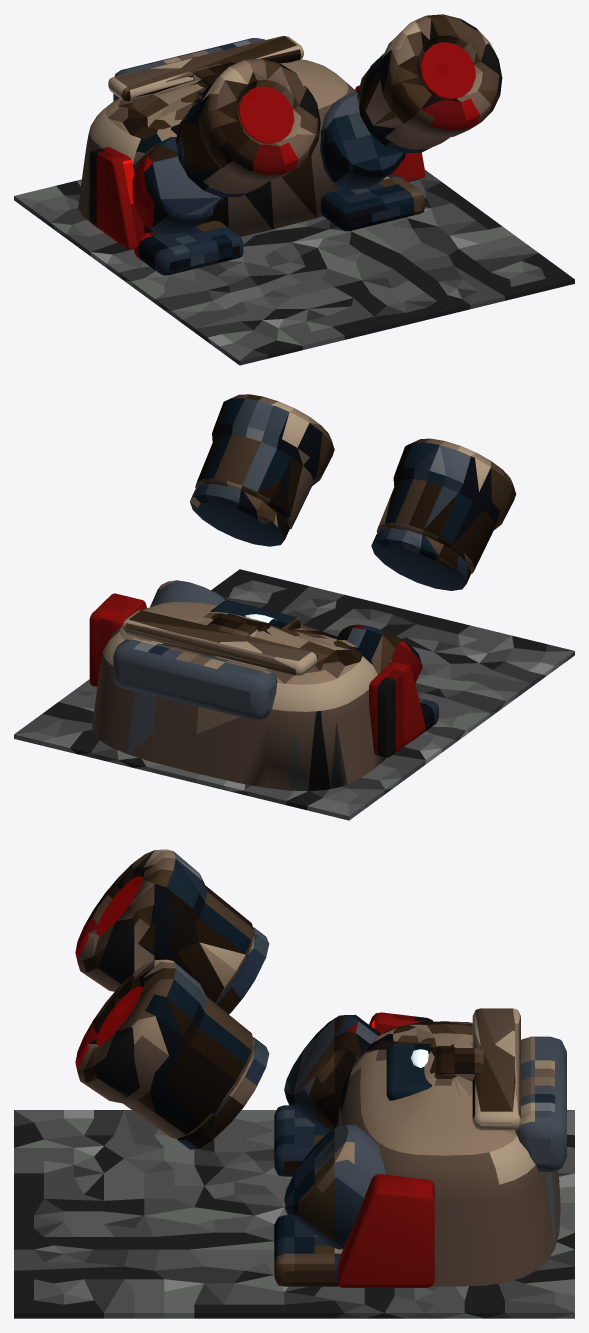
The model's file is tan_launcher_wreck.glb.
3 views of the same model, one above another, from view 1: azimuth 30°, elevation 25°; view 2: azimuth 150°, elevation 25°; view 3: azimuth 270°, elevation 25° (orthographic). The views are drawn at different scales.
Parts seen in each view (by area): view 1: tl_floor, housing, sleeve_r, sleeve_l, breech_l, breech_r, fin_l, t_bar, foot_l, foot_r, bore_l, bore_r (+5 smaller); view 2: tl_floor, housing, sleeve_l, sleeve_r, cowl, t_bar, fin_l, ring_l, ring_r, breech_l, fin_r, breech_r (+2 smaller); view 3: tl_floor, housing, sleeve_r, sleeve_l, fin_r, breech_r, breech_l, cowl, t_bar, foot_r, ring_r, foot_l (+6 smaller).
Boxes of the visible parts, left/top/right/bottom form: tl_floor: left=14, top=170, right=574, bottom=365; housing: left=78, top=59, right=356, bottom=236; sleeve_r: left=362, top=14, right=502, bottom=149; sleeve_l: left=181, top=58, right=320, bottom=194; breech_l: left=132, top=137, right=224, bottom=234; breech_r: left=320, top=92, right=405, bottom=189; fin_l: left=89, top=147, right=145, bottom=249; t_bar: left=108, top=36, right=303, bottom=101; foot_l: left=134, top=220, right=243, bottom=275; foot_r: left=321, top=174, right=424, bottom=231; bore_l: left=238, top=86, right=294, bottom=143; bore_r: left=420, top=42, right=475, bottom=99; tl_floor: left=14, top=569, right=574, bottom=820; housing: left=92, top=602, right=386, bottom=791; sleeve_l: left=376, top=438, right=516, bottom=573; sleeve_r: left=195, top=394, right=334, bottom=529; cowl: left=113, top=638, right=277, bottom=719; t_bar: left=122, top=610, right=317, bottom=675; fin_l: left=369, top=661, right=425, bottom=757; ring_l: left=371, top=528, right=471, bottom=590; ring_r: left=190, top=483, right=289, bottom=546; breech_l: left=338, top=624, right=422, bottom=682; fin_r: left=89, top=593, right=146, bottom=686; breech_r: left=150, top=580, right=227, bottom=606; tl_floor: left=14, top=1110, right=574, bottom=1318; housing: left=337, top=1021, right=560, bottom=1286; sleeve_r: left=75, top=959, right=253, bottom=1138; sleeve_l: left=75, top=849, right=253, bottom=1002; fin_r: left=337, top=1174, right=434, bottom=1287; breech_r: left=284, top=1125, right=385, bottom=1249; breech_l: left=284, top=1014, right=381, bottom=1133; cowl: left=515, top=1036, right=566, bottom=1171; t_bar: left=472, top=1008, right=520, bottom=1130; foot_r: left=274, top=1215, right=342, bottom=1286; ring_r: left=177, top=1037, right=269, bottom=1149; foot_l: left=274, top=1105, right=326, bottom=1176.
Size of the model in its own units: 24 by 16.5 by 28.
